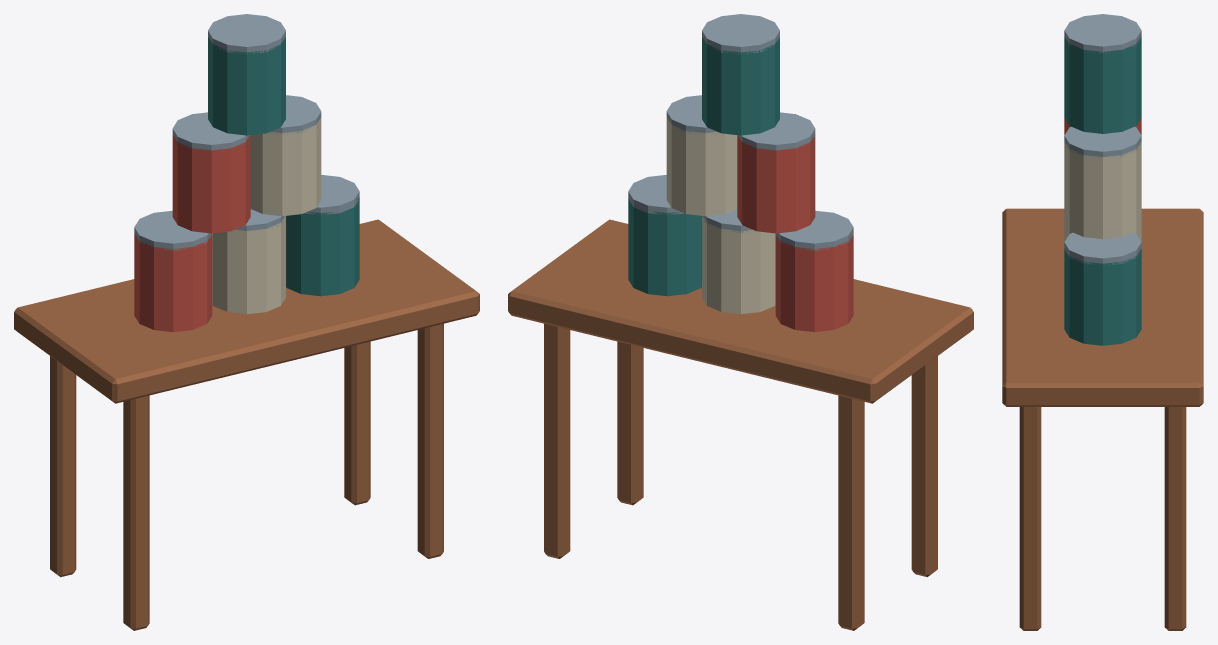
Rendered from cans.glb.
3 renders of one model, left to right at view 1: azimuth 30°, elevation 25°; view 2: azimuth 150°, elevation 25°; view 3: azimuth 270°, elevation 25°, orthographic.
Parts seen in each view (by area): view 1: Base, Target5, Target0, Target3, Target2, Target4, Target1; view 2: Base, Target5, Target0, Target3, Target2, Target4, Target1; view 3: Base, Target5, Target2, Target4.
Boxes of the visible parts, left/top/right/bottom form: Base: left=14, top=219, right=479, bottom=630; Target5: left=208, top=14, right=285, bottom=135; Target0: left=134, top=210, right=212, bottom=332; Target3: left=172, top=112, right=250, bottom=233; Target2: left=286, top=175, right=359, bottom=296; Target4: left=250, top=95, right=321, bottom=216; Target1: left=212, top=209, right=285, bottom=314; Base: left=508, top=219, right=973, bottom=630; Target5: left=702, top=14, right=779, bottom=135; Target0: left=775, top=210, right=853, bottom=332; Target3: left=737, top=112, right=815, bottom=233; Target2: left=628, top=175, right=701, bottom=296; Target4: left=666, top=95, right=737, bottom=216; Target1: left=702, top=209, right=775, bottom=314; Base: left=1002, top=208, right=1203, bottom=630; Target5: left=1064, top=14, right=1141, bottom=133; Target2: left=1064, top=232, right=1141, bottom=345; Target4: left=1064, top=126, right=1141, bottom=239.
Size of the model in its own units: 1.25 by 1.73 by 0.6.
